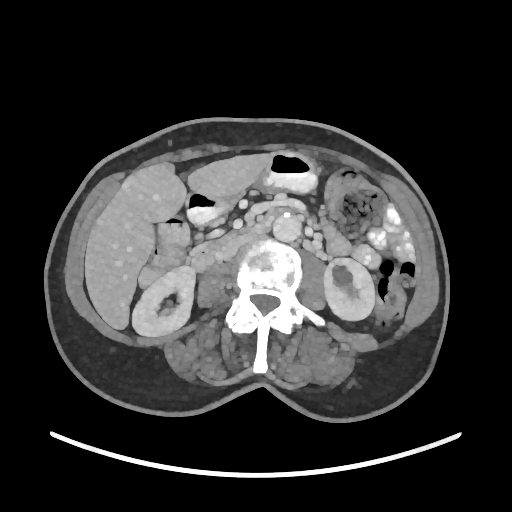Lesion: (329, 261, 355, 292)
